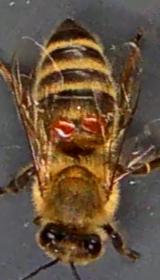varroa_mite: (46, 116, 76, 145), (74, 111, 103, 136)
